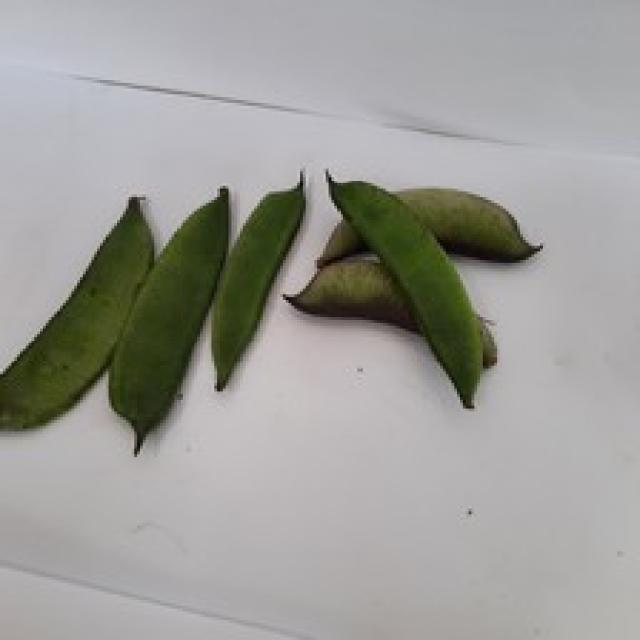Bean: (323, 165, 486, 408), (0, 191, 154, 431), (105, 183, 228, 454), (280, 248, 497, 368), (208, 168, 306, 388)
